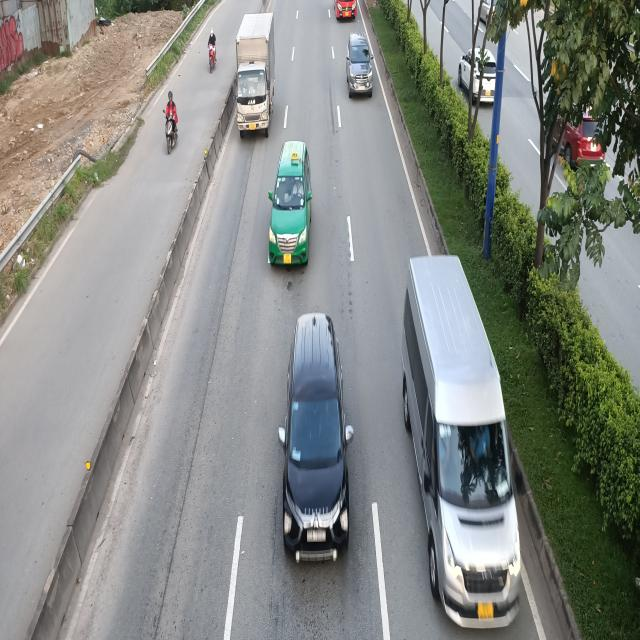car: (276, 315, 350, 559), (268, 140, 312, 269), (346, 33, 374, 98)
truck: (231, 14, 273, 139)
van: (402, 260, 522, 625)
